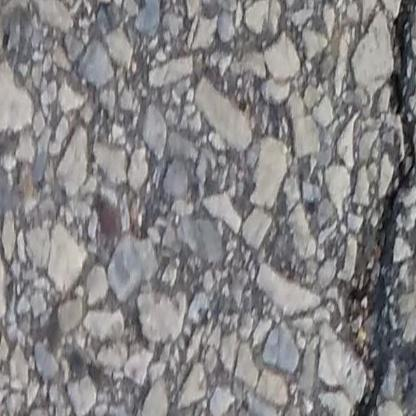Cracks: (330, 0, 416, 416)
